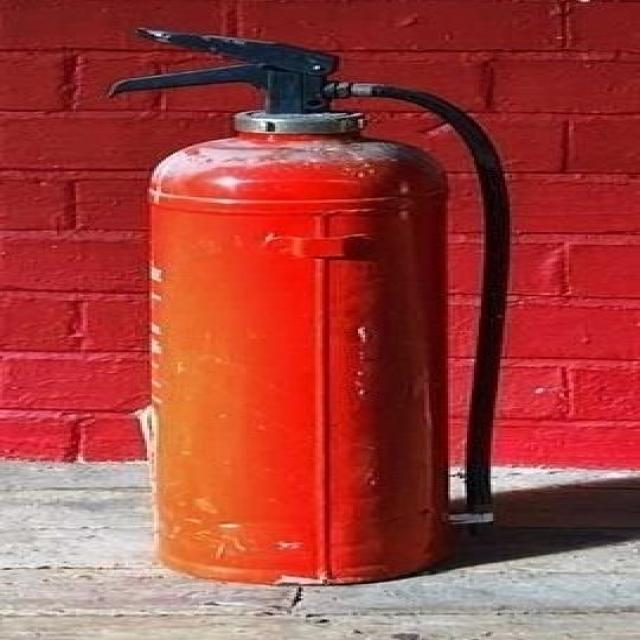fire_extinguisher: (92, 22, 522, 592)
